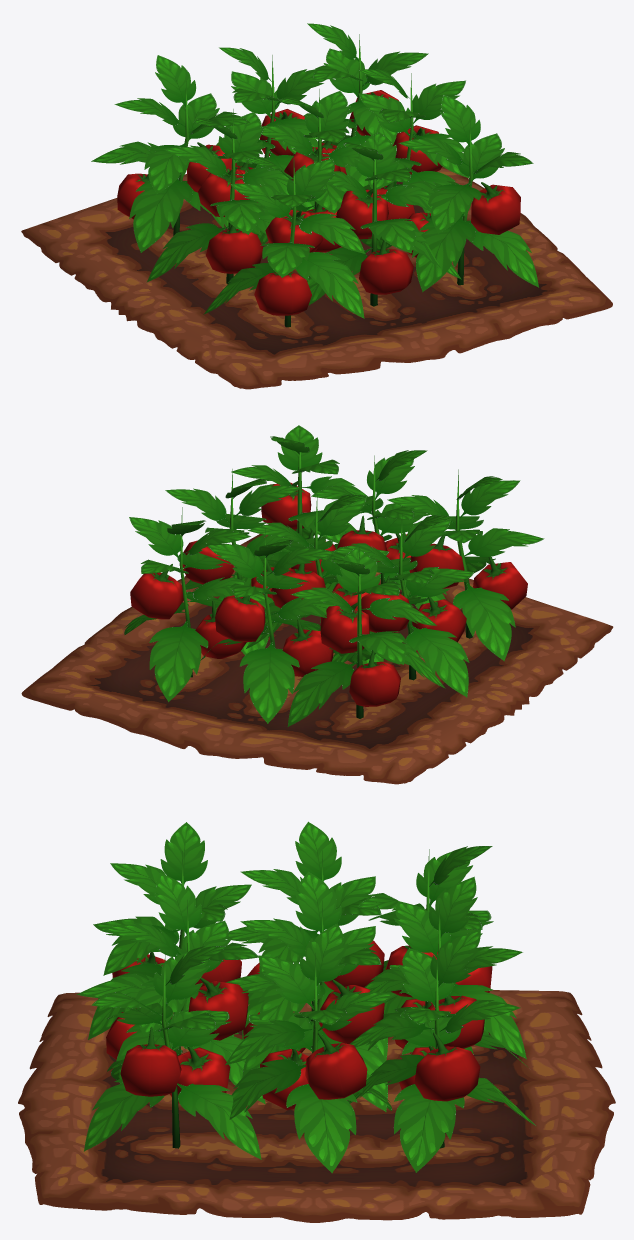
File: Tomato_Field_Lv3.FBX
3 views of the same model, one above another, from view 1: azimuth 30°, elevation 25°; view 2: azimuth 150°, elevation 25°; view 3: azimuth 270°, elevation 25° (orthographic). The views are drawn at different scales.
Visible parts, largest first — view 1: Tomato_Field_Lv3; view 2: Tomato_Field_Lv3; view 3: Tomato_Field_Lv3.
Part boxes in pixels (x1=…): Tomato_Field_Lv3: x1=21, y1=23, x2=612, y2=389; Tomato_Field_Lv3: x1=21, y1=425, x2=613, y2=784; Tomato_Field_Lv3: x1=18, y1=821, x2=615, y2=1222.
Size of the model in its own units: 274 by 114 by 296.
